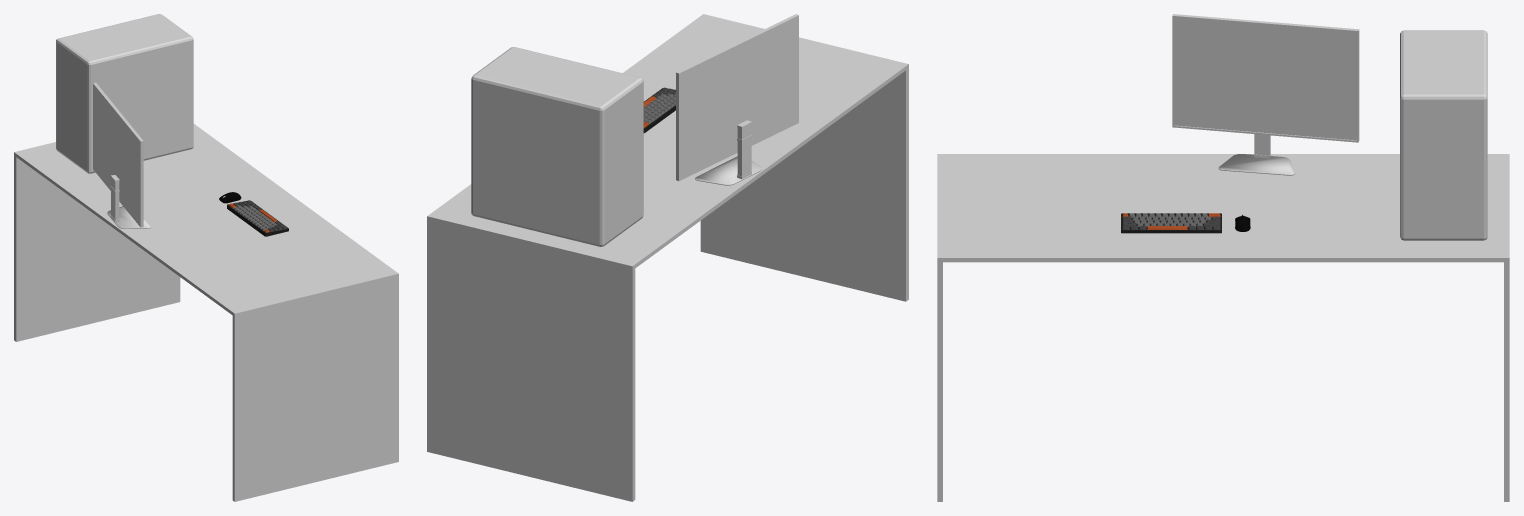
Rendered from pc_setup.glb.
3 renders of one model, left to right at view 1: azimuth 30°, elevation 25°; view 2: azimuth 150°, elevation 25°; view 3: azimuth 270°, elevation 25°, orthographic. The views are drawn at different scales.
Visible parts, largest first — view 1: Desk, Case, right-monitor; view 2: Desk, Case, right-monitor; view 3: Desk, right-monitor, Case, Cube.048.
Part boxes in pixels (x1=…): Desk: x1=14, y1=124, x2=398, y2=501; Case: x1=56, y1=14, x2=193, y2=173; right-monitor: x1=93, y1=82, x2=151, y2=228; Desk: x1=427, y1=14, x2=908, y2=501; Case: x1=471, y1=47, x2=643, y2=246; right-monitor: x1=676, y1=14, x2=798, y2=185; Desk: x1=937, y1=154, x2=1509, y2=501; right-monitor: x1=1172, y1=14, x2=1359, y2=175; Case: x1=1400, y1=30, x2=1487, y2=240; Cube.048: x1=1121, y1=213, x2=1221, y2=233.
Size of the model in its own units: 0.702 by 1.2 by 1.6.
Materials: 1 (1 with a texture image).
